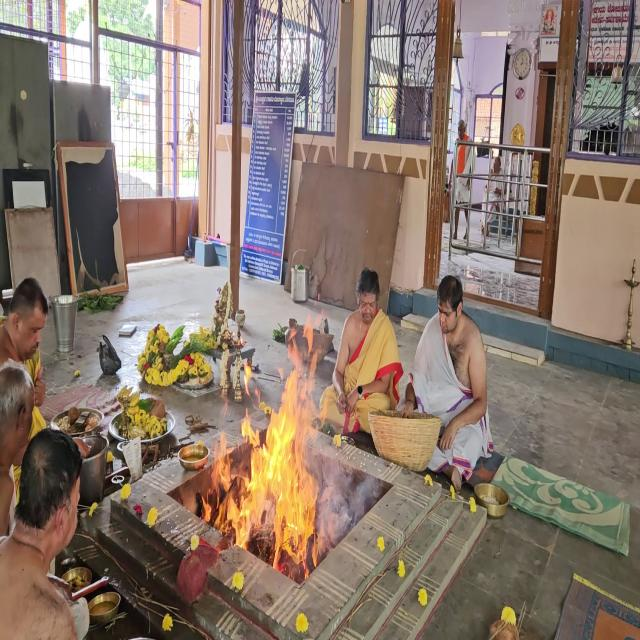fire: (203, 325, 334, 593)
